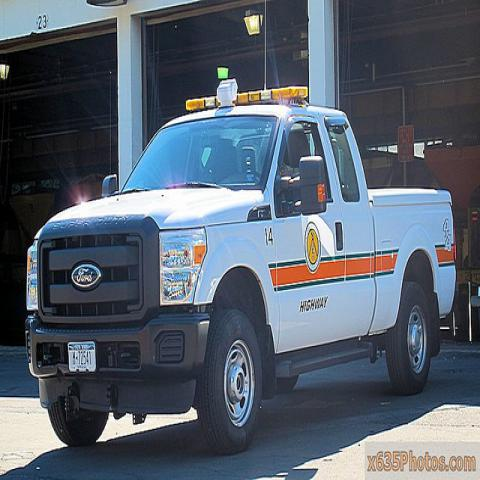truck: (24, 87, 457, 458)
